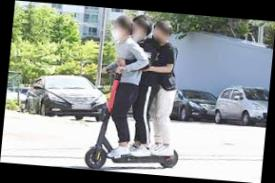multiple: (83, 11, 191, 176)
